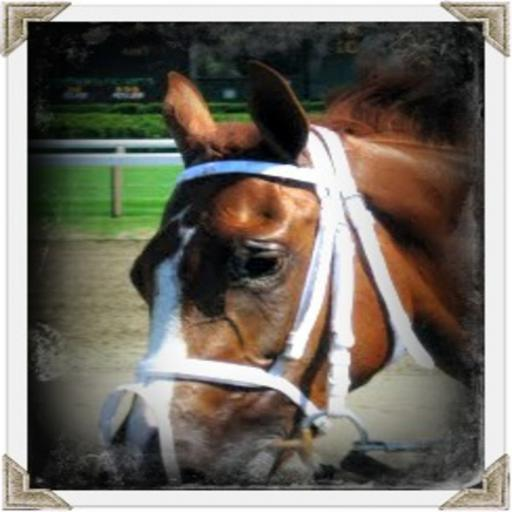horse: (94, 56, 485, 486)
